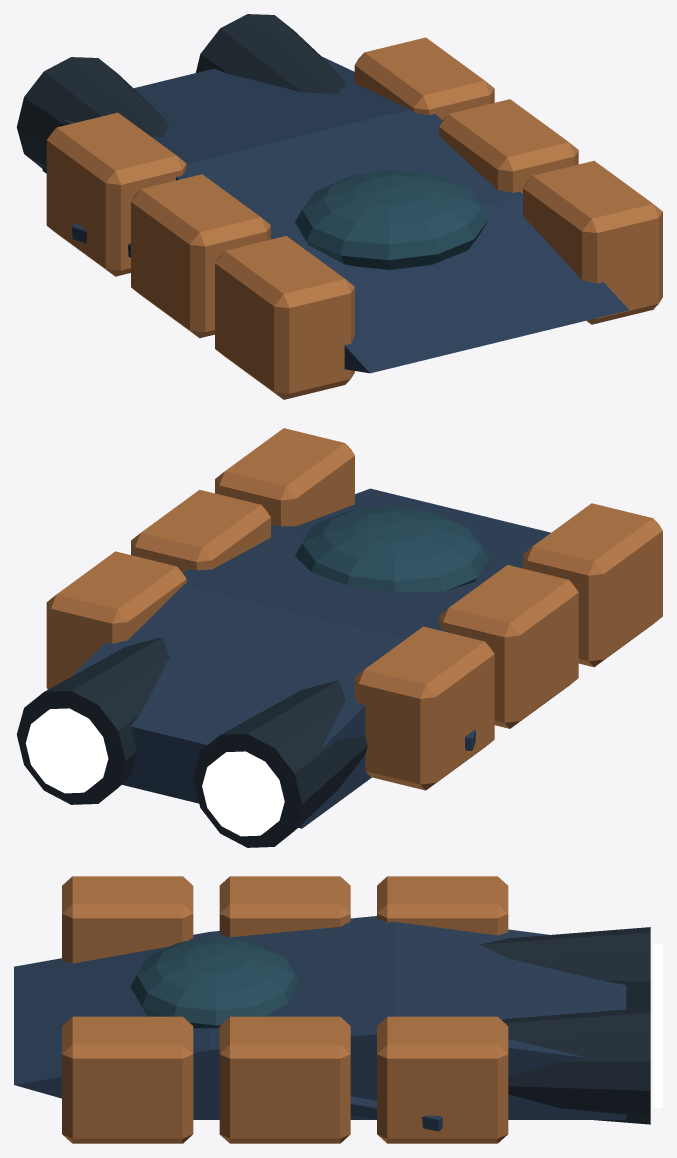
Rendered from space-freighter.lod0.glb.
3 views of the same model, one above another, from view 1: azimuth 30°, elevation 25°; view 2: azimuth 150°, elevation 25°; view 3: azimuth 270°, elevation 25° (orthographic). The views are drawn at different scales.
Parts seen in each view (by area): view 1: space-freighter__body; view 2: space-freighter__body; view 3: space-freighter__body.
Part boxes in pixels (x1,y1,x2,y2): space-freighter__body: (16,14,662,399); space-freighter__body: (16,428,662,847); space-freighter__body: (14,876,662,1143).
Size of the model in its own units: 4.95 by 1.55 by 7.42.
